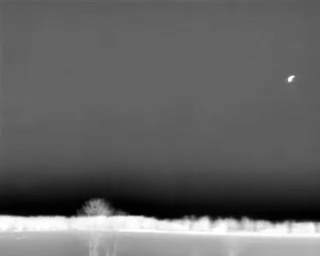BIRD: (284, 71, 298, 87)
